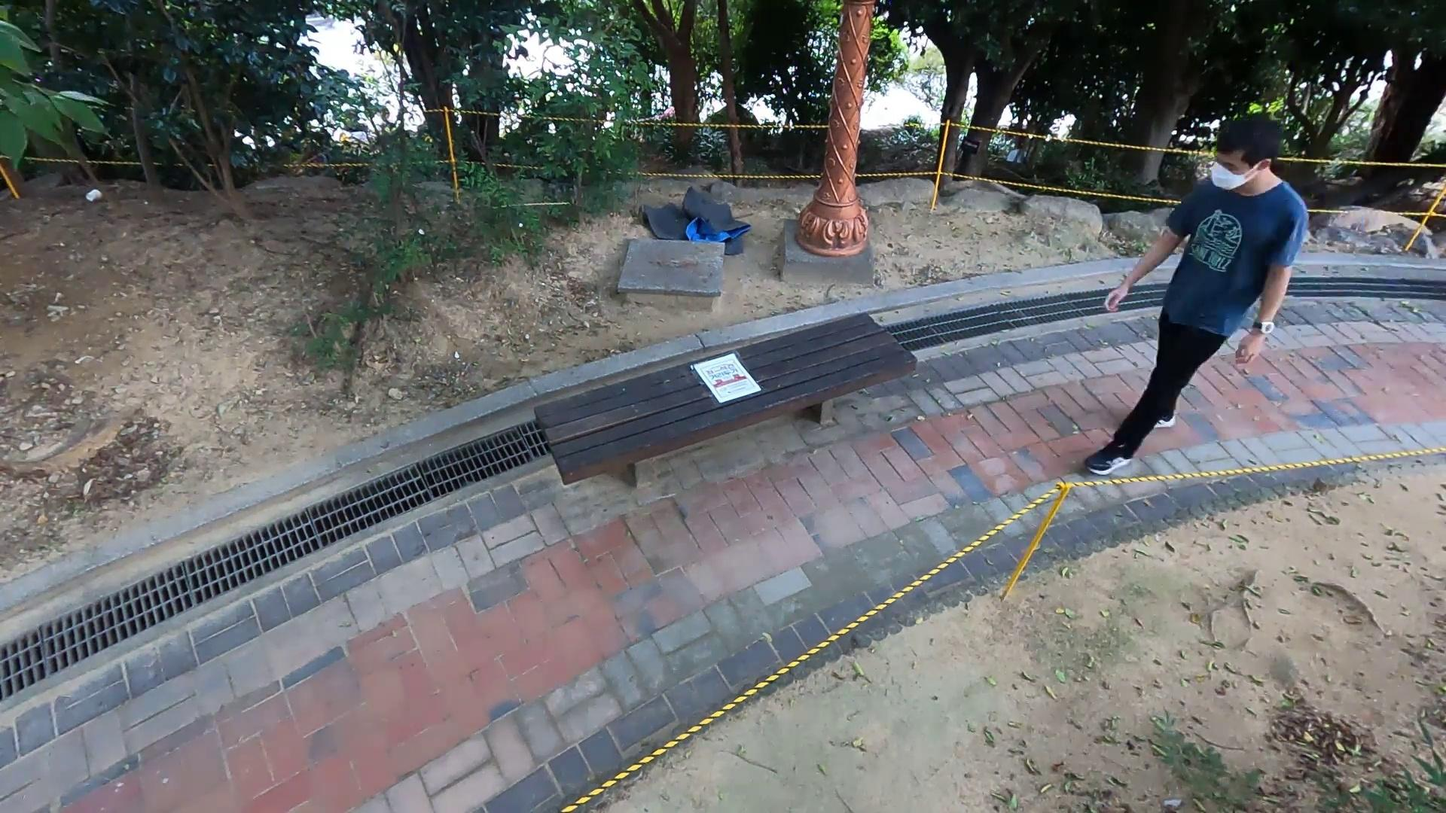person: (1076, 102, 1308, 480)
